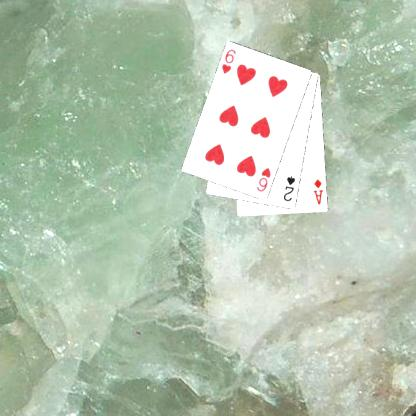2S: (281, 173, 296, 203)
6H: (219, 46, 237, 76), (254, 165, 272, 193)
AD: (311, 176, 325, 206)
